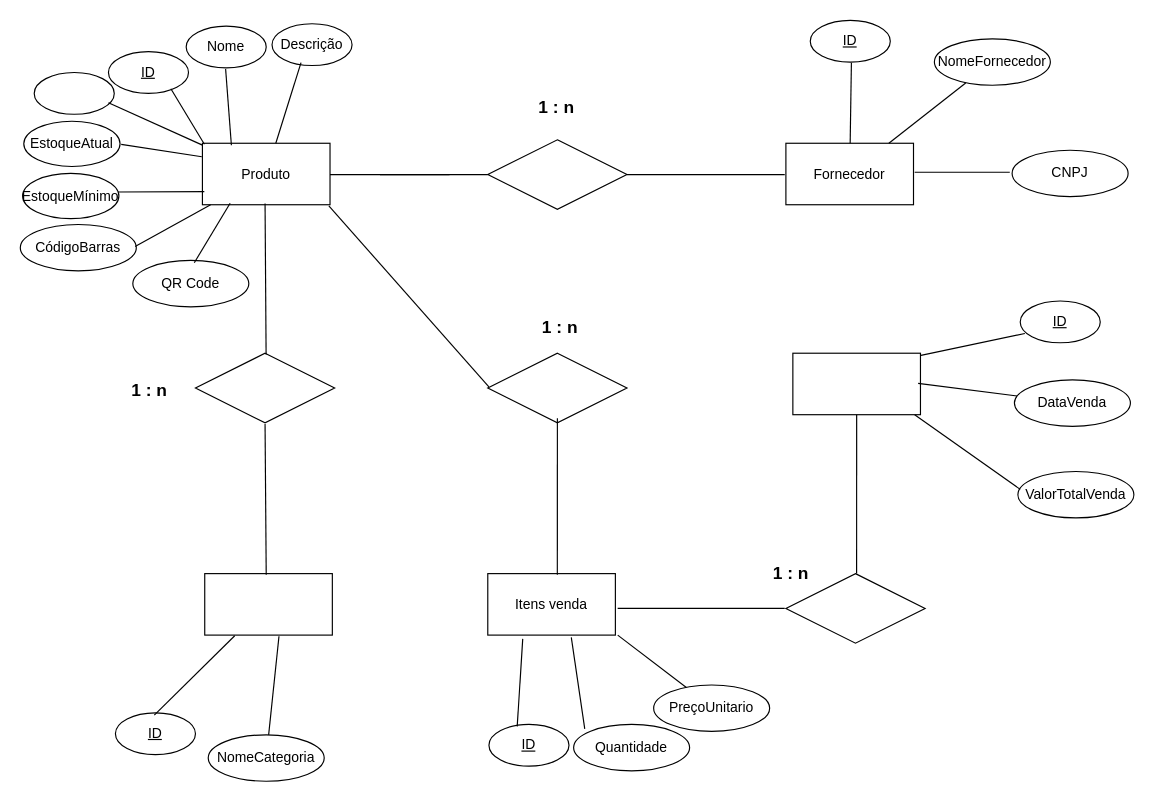
This 1154x802 diagram has some shape labels left out. Each missing label, with the centre of its shape:
"Categoria" belongs at pixel 268 603.
"Contém" belongs at pixel 557 387.
"Fornecido" belongs at pixel 557 174.
"Pertence" belongs at pixel 264 387.
"Possui" belongs at pixel 855 607.
"Preço" belongs at pixel 73 92.
"Venda" belongs at pixel 856 383.
